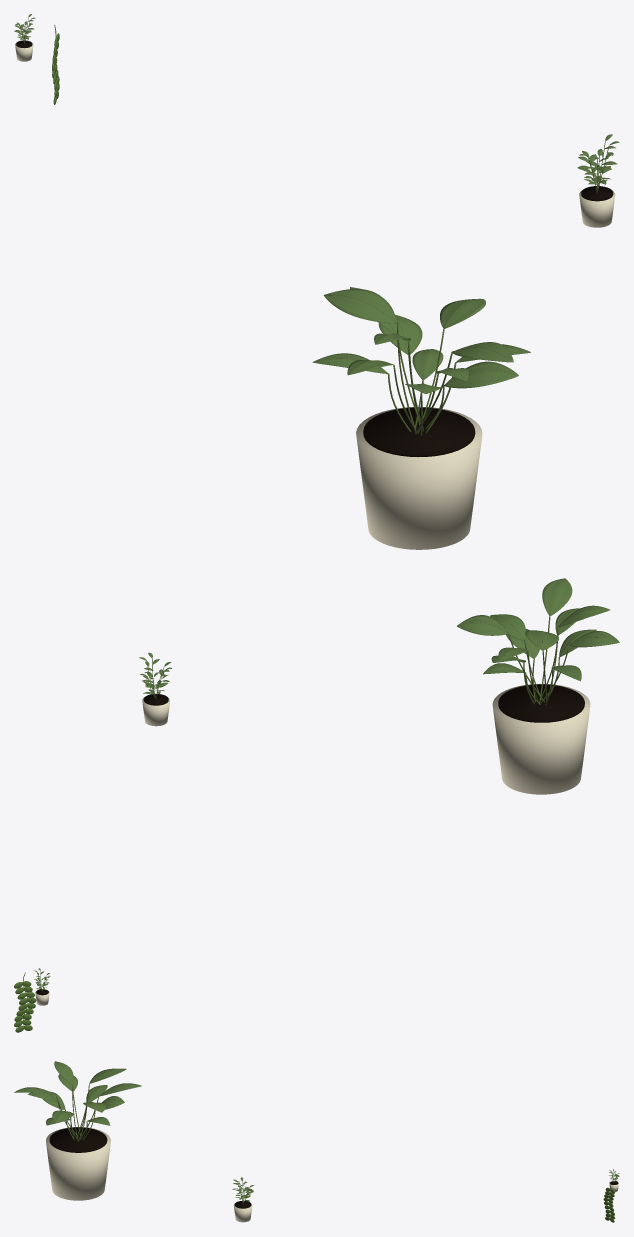
The model's file is terrace-planters.glb.
The picture shows the model from 3 angles, top to bottom: view 1: azimuth 30°, elevation 25°; view 2: azimuth 150°, elevation 25°; view 3: azimuth 270°, elevation 25°; orthographic projection. The views are drawn at different scales.
Parts seen in each view (by area): view 1: part_00002, part_00001, part_00000; view 2: part_00002, part_00001, part_00000; view 3: part_00002, part_00001, part_00000.
Boxes of the visible parts, x1,y1,x2,y2 form: part_00002: (312, 287, 530, 549); part_00001: (577, 134, 619, 227); part_00000: (14, 14, 59, 104); part_00002: (457, 578, 619, 794); part_00001: (139, 652, 171, 726); part_00000: (14, 968, 50, 1032); part_00002: (14, 1061, 141, 1200); part_00001: (232, 1177, 254, 1222); part_00000: (603, 1169, 619, 1222).
Size of the model in its own units: 2.35 by 1.11 by 5.41.
